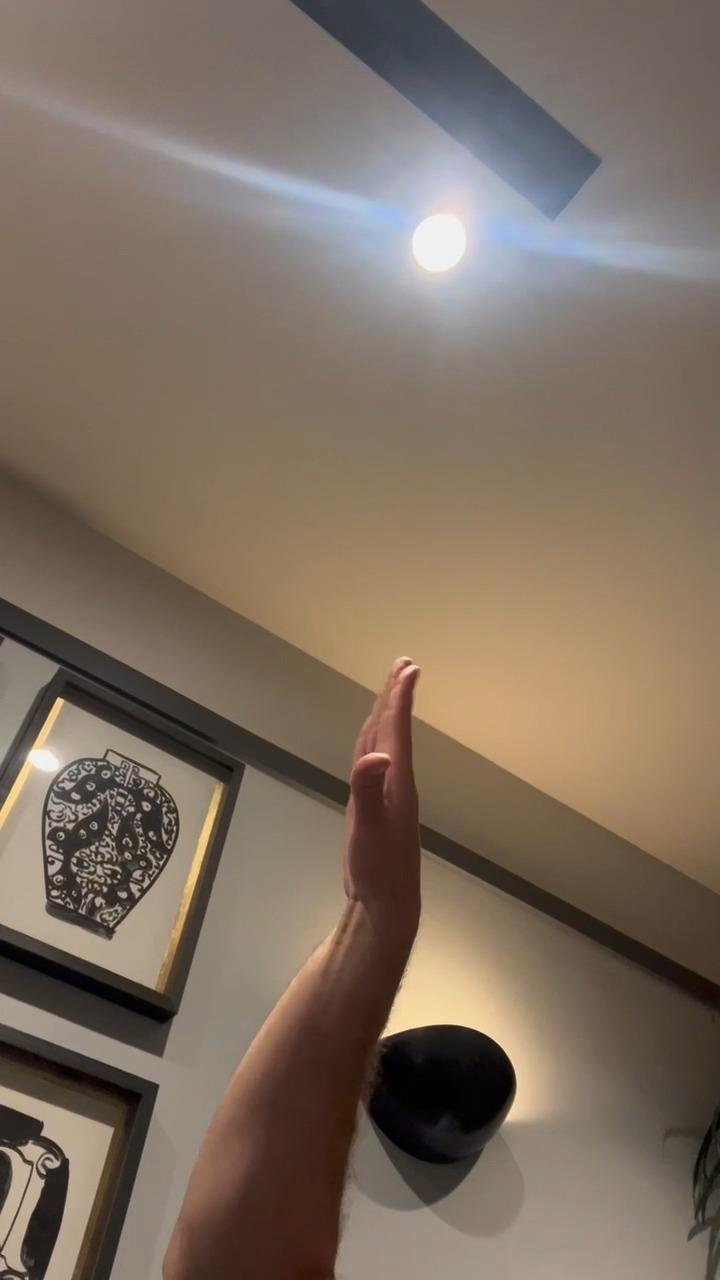Paper: (336, 650, 436, 914)
